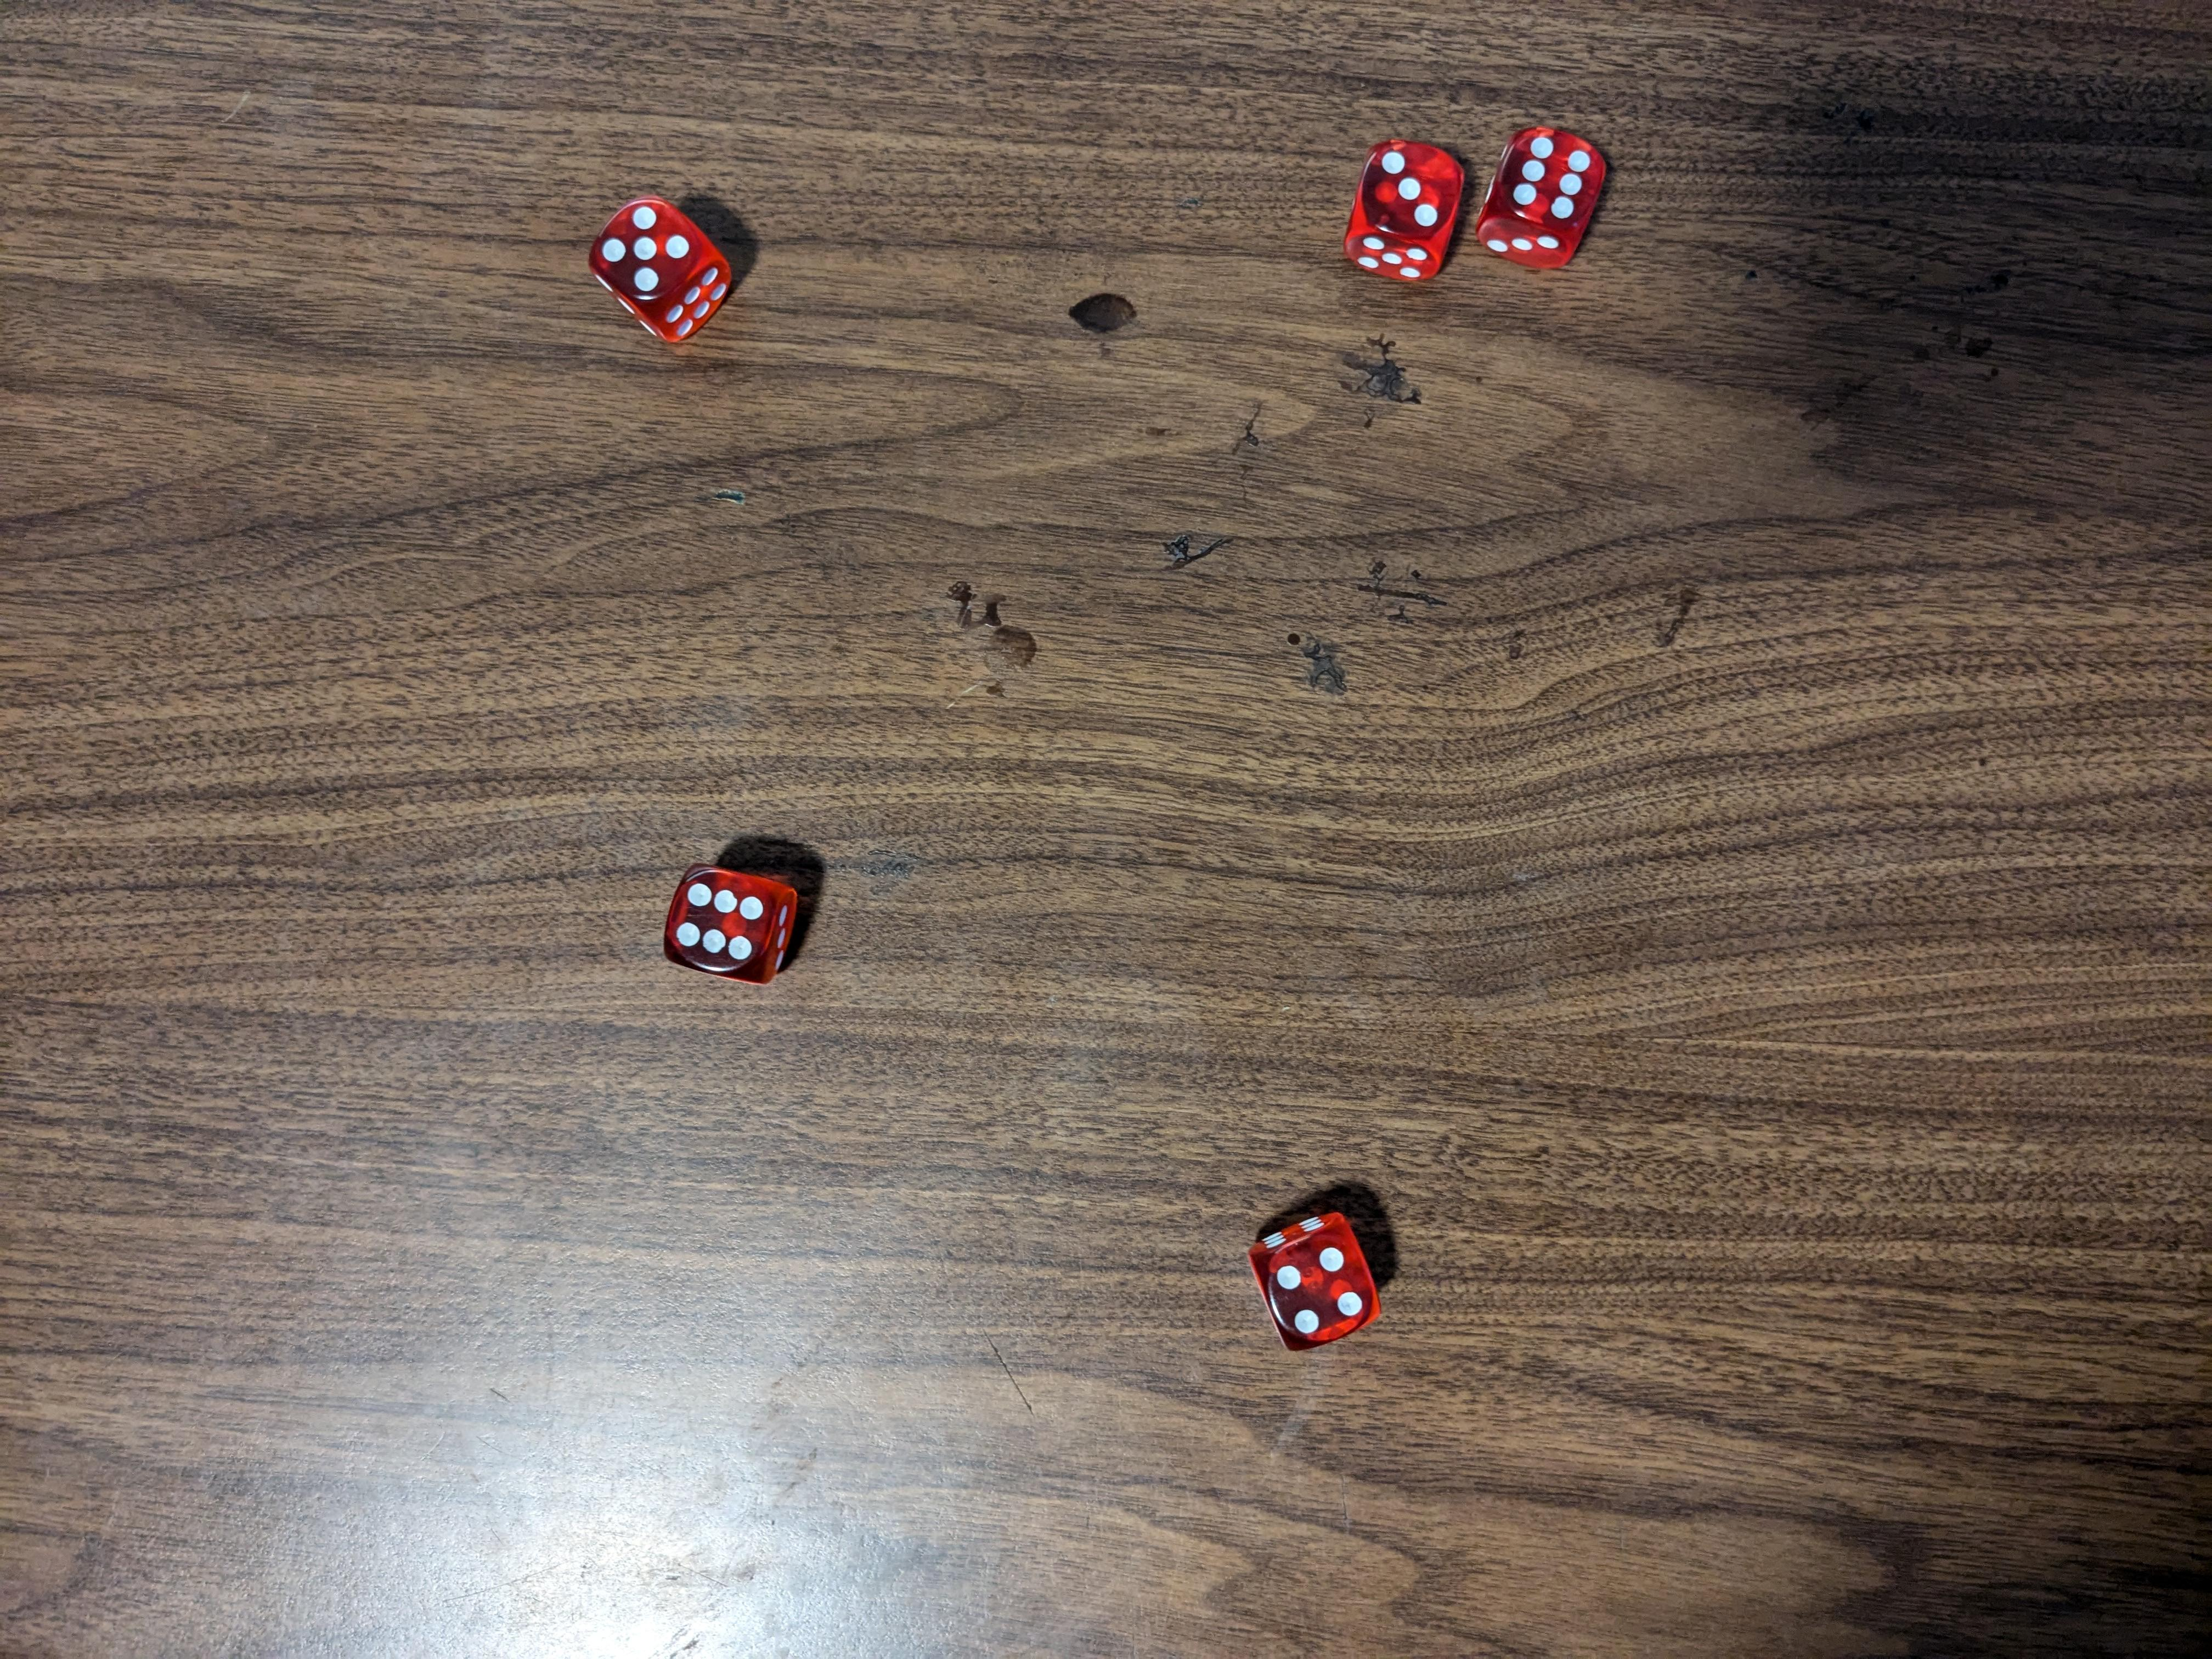five: (589, 197, 732, 345)
four: (1240, 1209, 1383, 1352)
six: (1474, 125, 1609, 274), (665, 866, 801, 988)
three: (1348, 132, 1463, 281)
